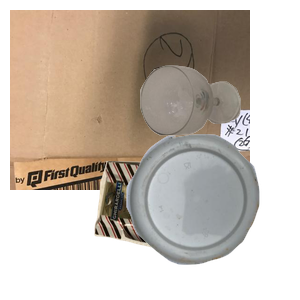cardboard: (10, 10, 250, 190)
glass: (138, 63, 300, 191)
plastic: (124, 132, 300, 300)
trash: (92, 158, 277, 300)
